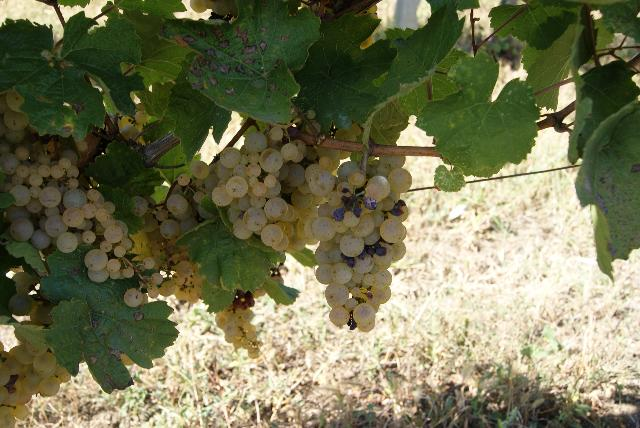grapes: (0, 141, 185, 308), (144, 126, 334, 251), (306, 155, 412, 331)
